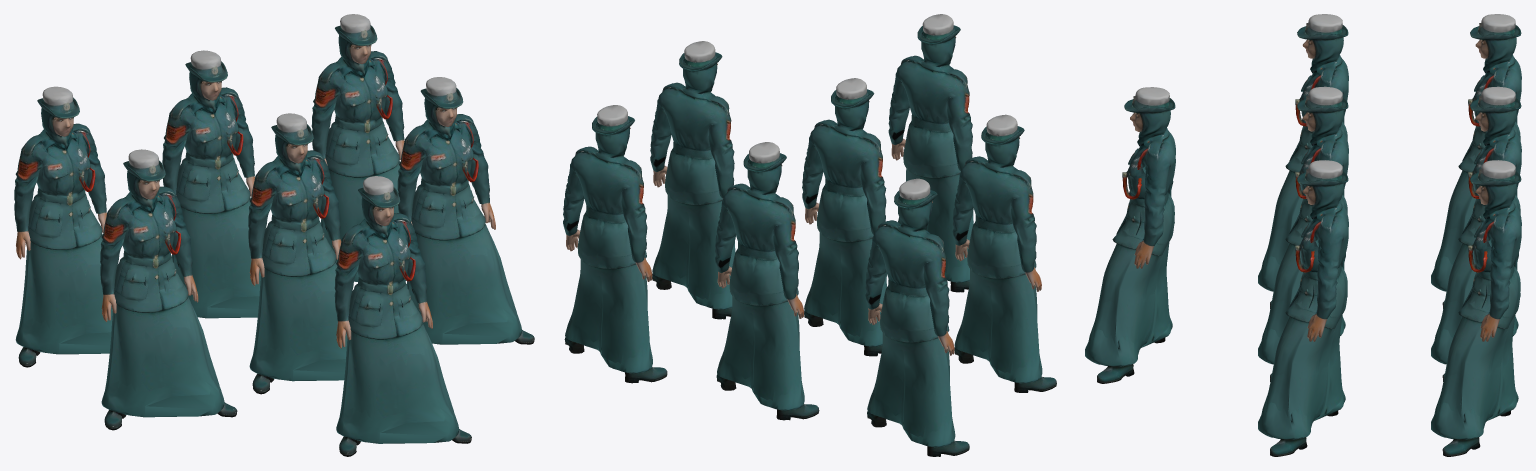
File: parade_uae_idle.glb
3 renders of one model, left to right at view 1: azimuth 30°, elevation 25°; view 2: azimuth 150°, elevation 25°; view 3: azimuth 270°, elevation 25°, orthographic.
Parts seen in each view (by area): view 1: tripo_node_9774fca4-fe61-4669-b829-f6ac5d93d194, tripo_node_9774fca4-fe61-4669-b829-f6ac5d93d194.003, tripo_node_9774fca4-fe61-4669-b829-f6ac5d93d194.001, tripo_node_9774fca4-fe61-4669-b829-f6ac5d93d194.006, tripo_node_9774fca4-fe61-4669-b829-f6ac5d93d194.002, tripo_node_9774fca4-fe61-4669-b829-f6ac5d93d194.004, tripo_node_9774fca4-fe61-4669-b829-f6ac5d93d194.005; view 2: tripo_node_9774fca4-fe61-4669-b829-f6ac5d93d194.003, tripo_node_9774fca4-fe61-4669-b829-f6ac5d93d194.006, tripo_node_9774fca4-fe61-4669-b829-f6ac5d93d194.004, tripo_node_9774fca4-fe61-4669-b829-f6ac5d93d194.005, tripo_node_9774fca4-fe61-4669-b829-f6ac5d93d194.002, tripo_node_9774fca4-fe61-4669-b829-f6ac5d93d194.001, tripo_node_9774fca4-fe61-4669-b829-f6ac5d93d194; view 3: tripo_node_9774fca4-fe61-4669-b829-f6ac5d93d194.005, tripo_node_9774fca4-fe61-4669-b829-f6ac5d93d194.002, tripo_node_9774fca4-fe61-4669-b829-f6ac5d93d194, tripo_node_9774fca4-fe61-4669-b829-f6ac5d93d194.004, tripo_node_9774fca4-fe61-4669-b829-f6ac5d93d194.001, tripo_node_9774fca4-fe61-4669-b829-f6ac5d93d194.003, tripo_node_9774fca4-fe61-4669-b829-f6ac5d93d194.006.
Boxes of the visible parts, bbox=[...] form: tripo_node_9774fca4-fe61-4669-b829-f6ac5d93d194: bbox=[334, 176, 471, 456]; tripo_node_9774fca4-fe61-4669-b829-f6ac5d93d194.003: bbox=[100, 149, 237, 430]; tripo_node_9774fca4-fe61-4669-b829-f6ac5d93d194.001: bbox=[248, 113, 347, 394]; tripo_node_9774fca4-fe61-4669-b829-f6ac5d93d194.006: bbox=[14, 86, 112, 367]; tripo_node_9774fca4-fe61-4669-b829-f6ac5d93d194.002: bbox=[397, 77, 534, 344]; tripo_node_9774fca4-fe61-4669-b829-f6ac5d93d194.004: bbox=[162, 50, 260, 318]; tripo_node_9774fca4-fe61-4669-b829-f6ac5d93d194.005: bbox=[311, 14, 406, 281]; tripo_node_9774fca4-fe61-4669-b829-f6ac5d93d194.003: bbox=[952, 114, 1056, 392]; tripo_node_9774fca4-fe61-4669-b829-f6ac5d93d194.006: bbox=[865, 178, 969, 456]; tripo_node_9774fca4-fe61-4669-b829-f6ac5d93d194.004: bbox=[715, 142, 819, 420]; tripo_node_9774fca4-fe61-4669-b829-f6ac5d93d194.005: bbox=[563, 105, 667, 383]; tripo_node_9774fca4-fe61-4669-b829-f6ac5d93d194.002: bbox=[650, 41, 735, 319]; tripo_node_9774fca4-fe61-4669-b829-f6ac5d93d194.001: bbox=[802, 78, 886, 356]; tripo_node_9774fca4-fe61-4669-b829-f6ac5d93d194: bbox=[888, 14, 973, 292]; tripo_node_9774fca4-fe61-4669-b829-f6ac5d93d194.005: bbox=[1431, 160, 1521, 456]; tripo_node_9774fca4-fe61-4669-b829-f6ac5d93d194.002: bbox=[1258, 160, 1348, 456]; tripo_node_9774fca4-fe61-4669-b829-f6ac5d93d194: bbox=[1085, 87, 1175, 383]; tripo_node_9774fca4-fe61-4669-b829-f6ac5d93d194.004: bbox=[1431, 86, 1521, 381]; tripo_node_9774fca4-fe61-4669-b829-f6ac5d93d194.001: bbox=[1258, 86, 1348, 381]; tripo_node_9774fca4-fe61-4669-b829-f6ac5d93d194.003: bbox=[1258, 14, 1348, 308]; tripo_node_9774fca4-fe61-4669-b829-f6ac5d93d194.006: bbox=[1431, 14, 1521, 308].
Size of the model in its own units: 1.66 by 0.9962 by 1.52.
Materials: 1 (1 with a texture image).
